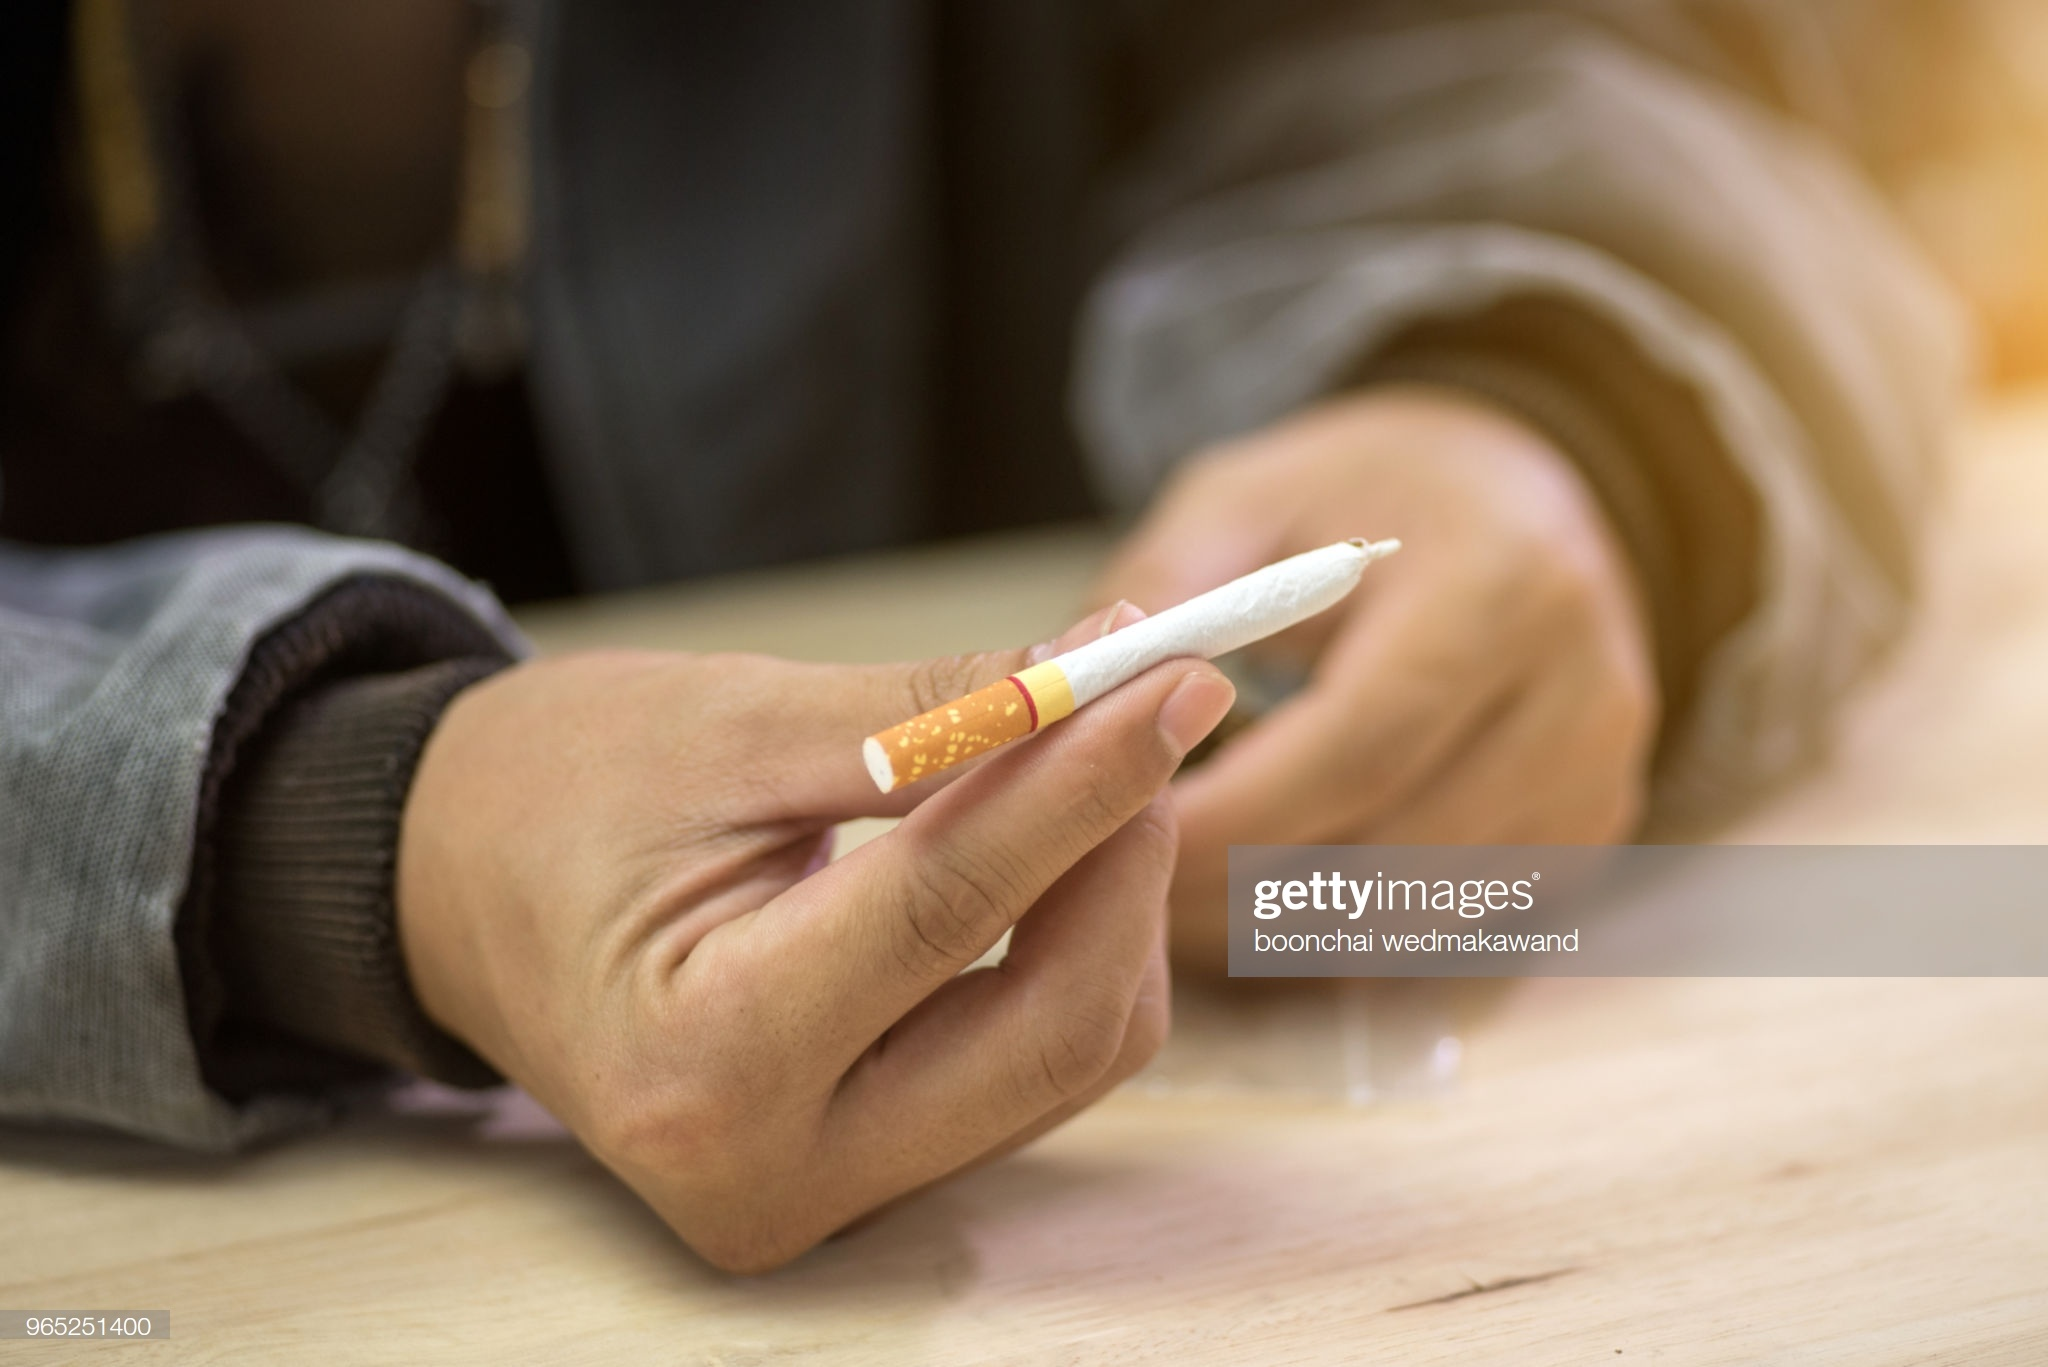sigaretta: (842, 525, 1398, 790)
